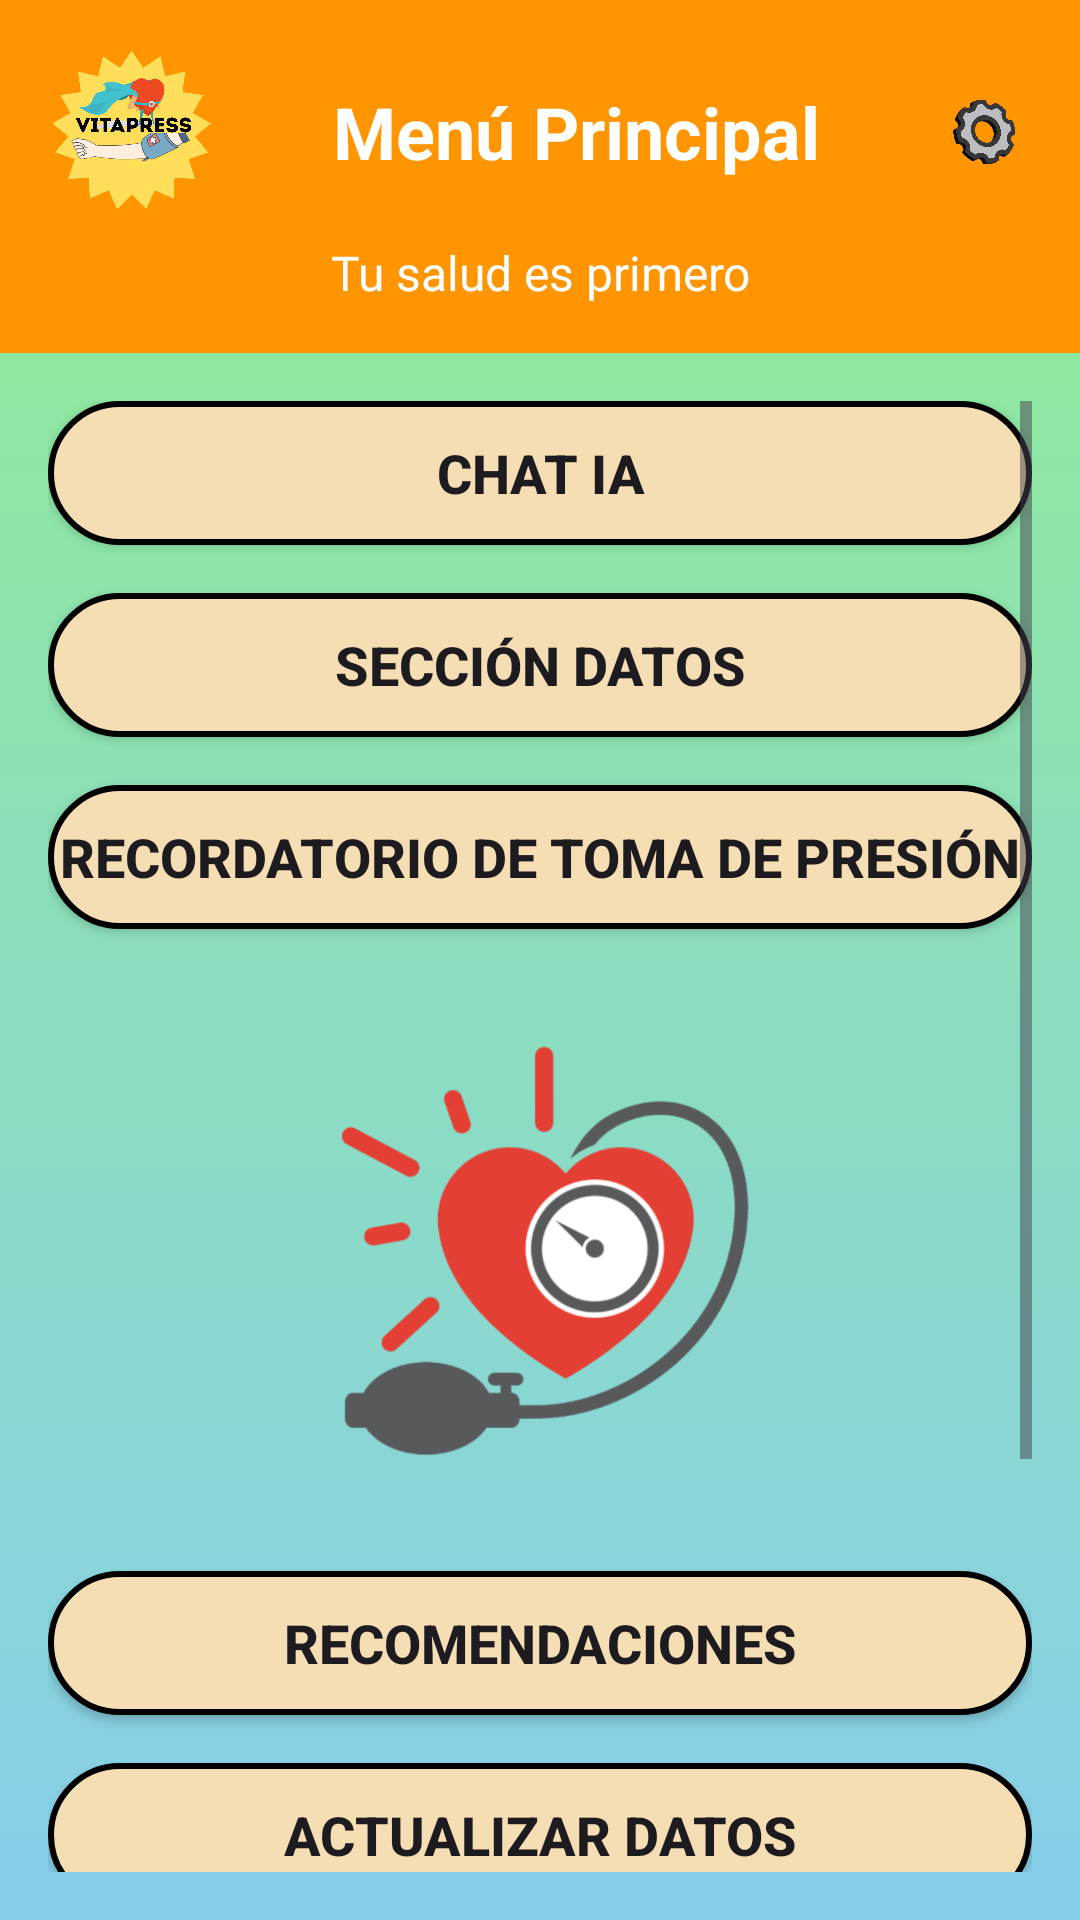

Where icons sit on this 1080 x 1920 app screen, as [left=x1, top=y1, right=x2, bottom=y2]:
Ajustes: [left=953, top=100, right=1016, bottom=165]
